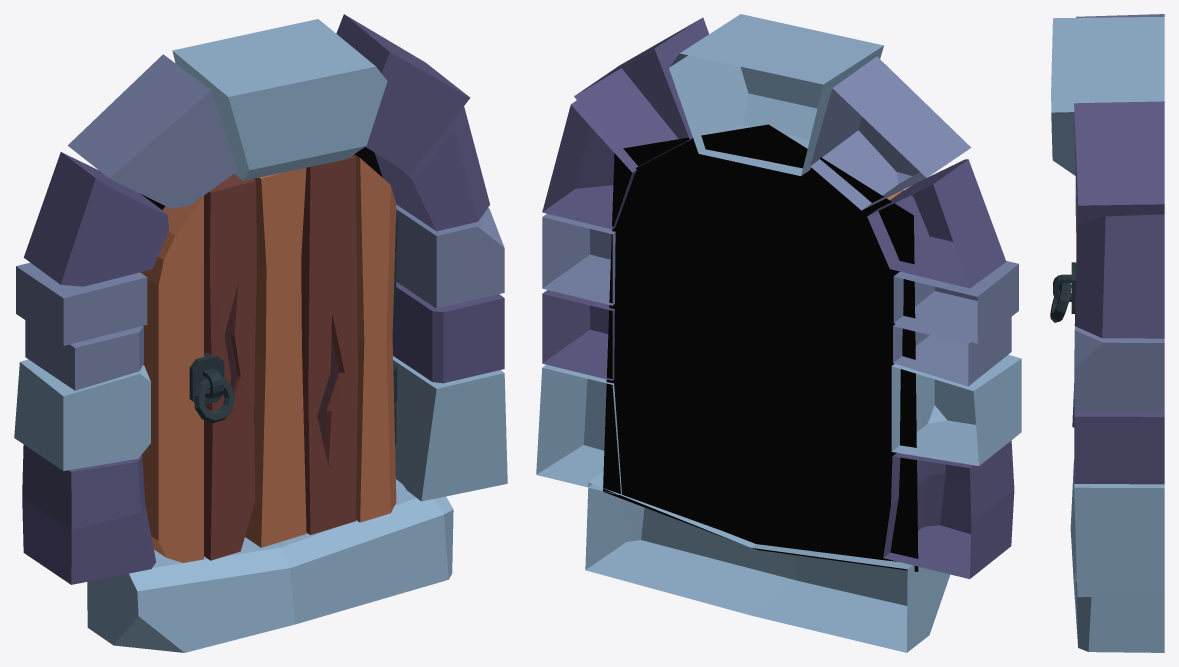
The model's file is Wall_Tower_Door_1.fbx.
3 views of the same model, side by side, from view 1: azimuth 30°, elevation 25°; view 2: azimuth 150°, elevation 25°; view 3: azimuth 270°, elevation 25° (orthographic). The views are drawn at different scales.
Visible parts, largest first — view 1: Wall_Tower_02_Doors_01.001; view 2: Wall_Tower_02_Doors_01.001; view 3: Wall_Tower_02_Doors_01.001.
Part boxes in pixels (x1,y1,x2,y2): Wall_Tower_02_Doors_01.001: (14, 14, 507, 652); Wall_Tower_02_Doors_01.001: (536, 14, 1021, 652); Wall_Tower_02_Doors_01.001: (1050, 14, 1164, 652).
Size of the model in its own units: 346 by 409 by 80.21.
